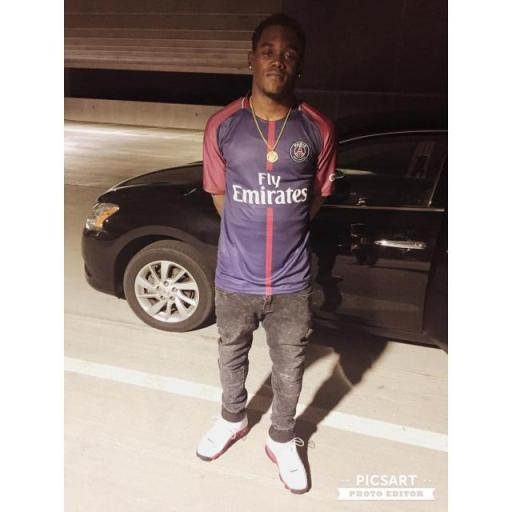Emirates: (228, 169, 310, 207)
